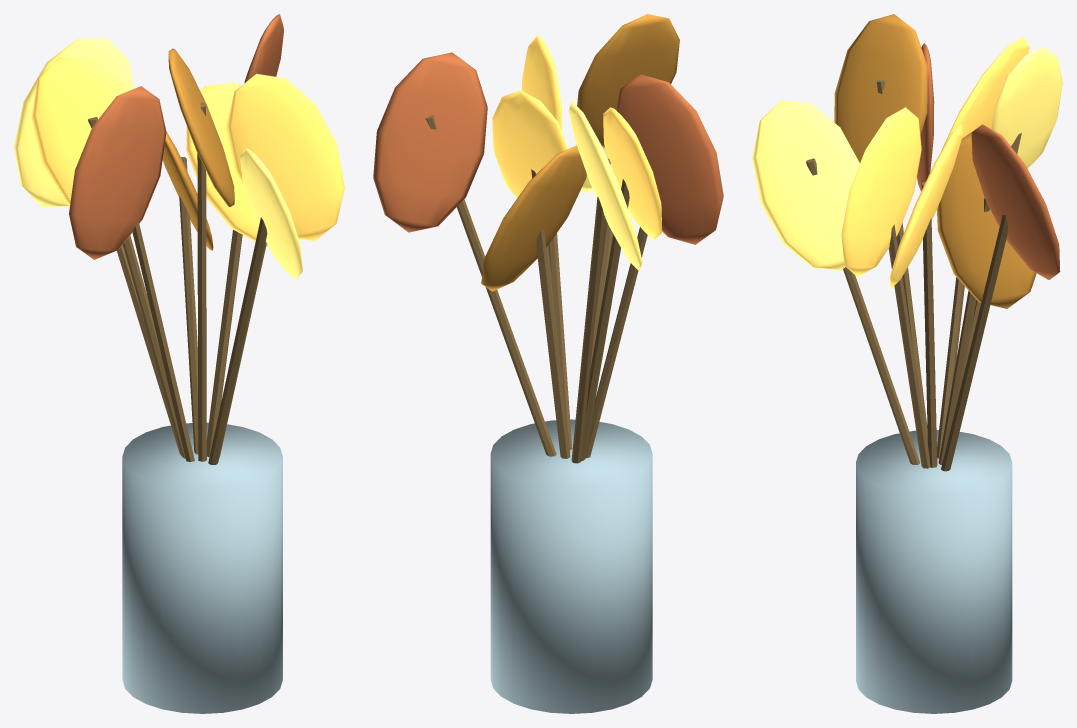
The model's file is leaf-bouquet.glb.
3 renders of one model, left to right at view 1: azimuth 30°, elevation 25°; view 2: azimuth 150°, elevation 25°; view 3: azimuth 270°, elevation 25°, orthographic. The views are drawn at different scales.
Visible parts, largest first — view 1: Cylinder; view 2: Cylinder; view 3: Cylinder.
Part boxes in pixels (x1,y1,x2,y2): Cylinder: (14,14,344,713); Cylinder: (373,14,723,713); Cylinder: (752,14,1062,713).
Bounding box in the file's own units: 0.2592 × 0.5876 × 0.2579.
